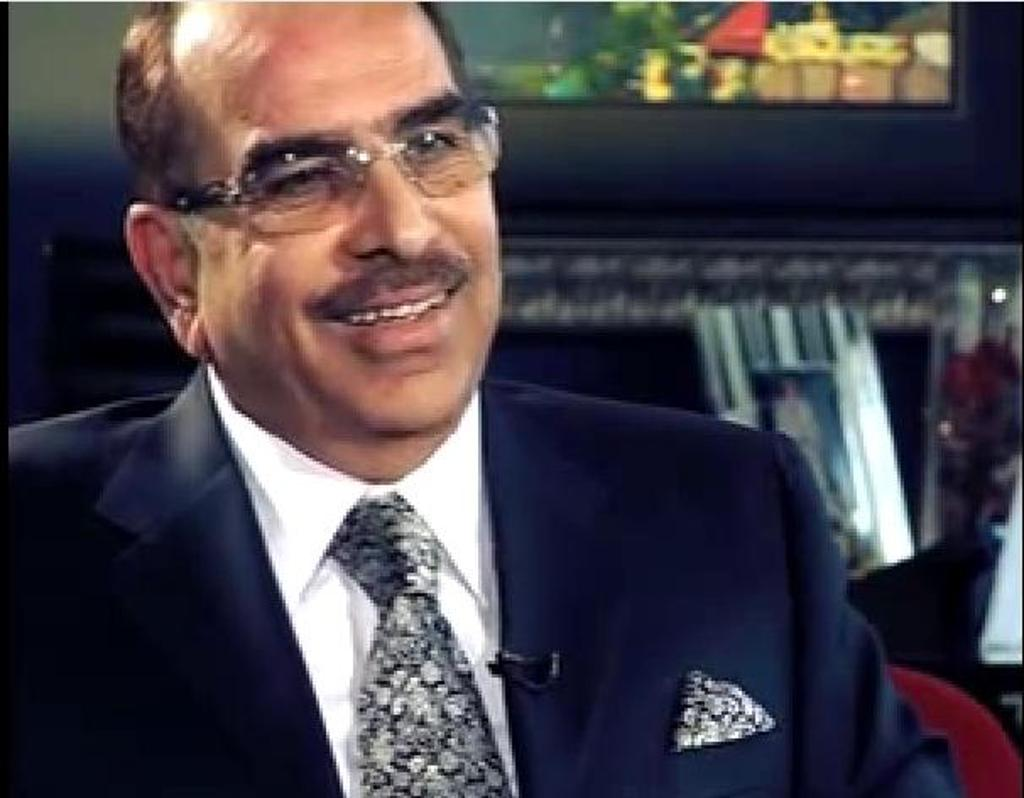face: (184, 6, 502, 434)
